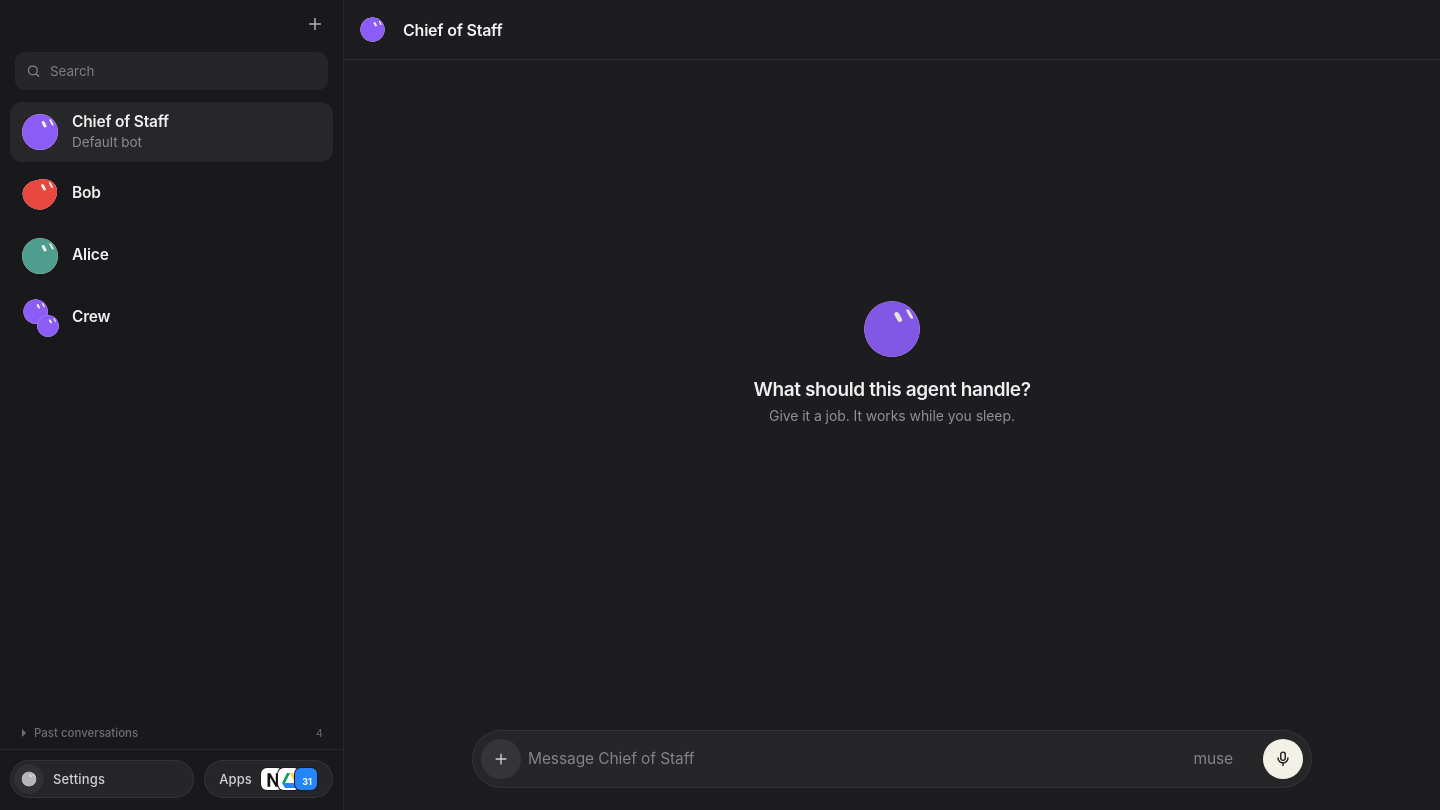
it: a round in a group › says when a member cannot answer
Click the button "Crew".
click(91, 316)  # box x1=10 y1=288 x2=333 y2=348
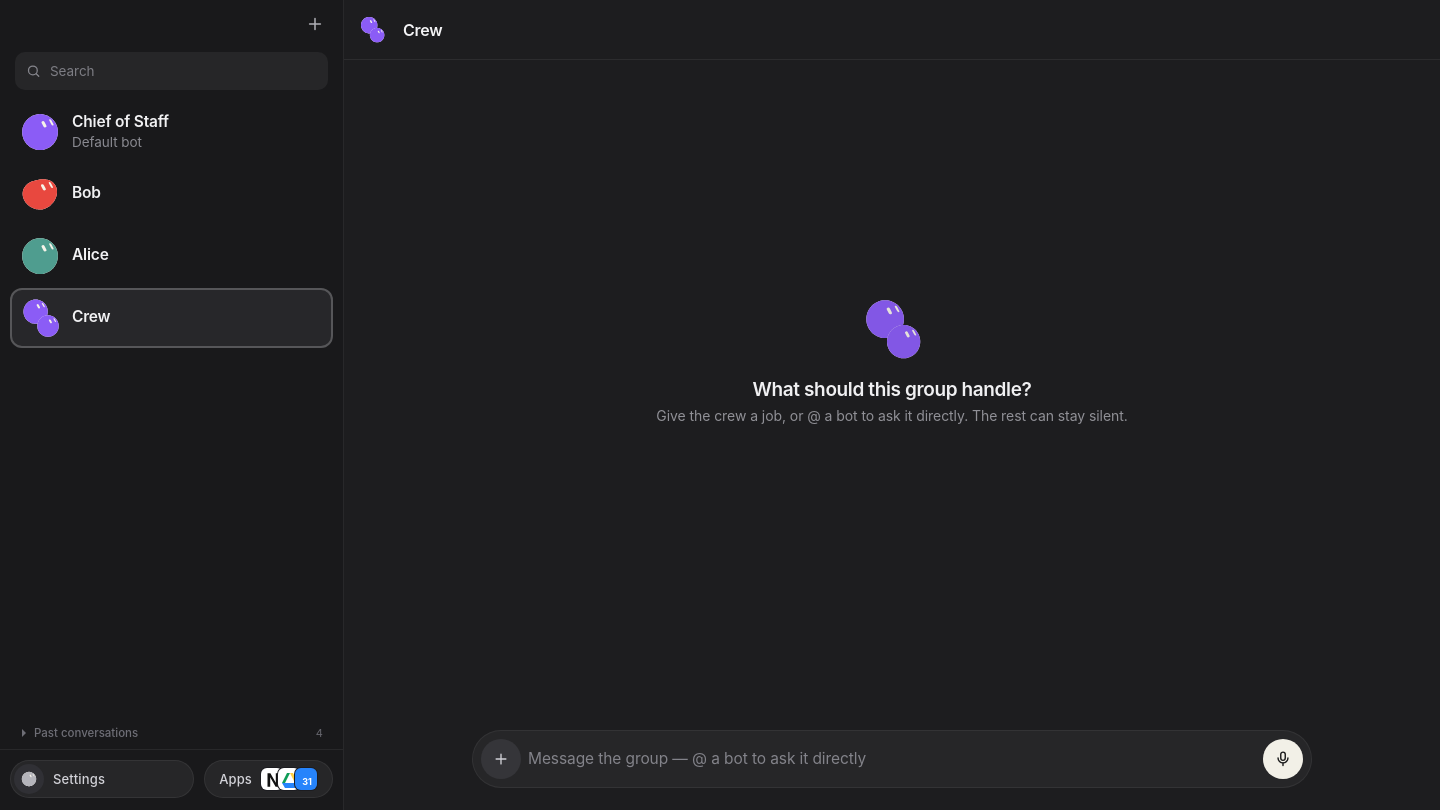
Type "Hello" into the text box labelled "Message the group — @ a bot to ask it directly".
click(892, 759); type("Hello")  # box x1=525 y1=739 x2=1259 y2=779
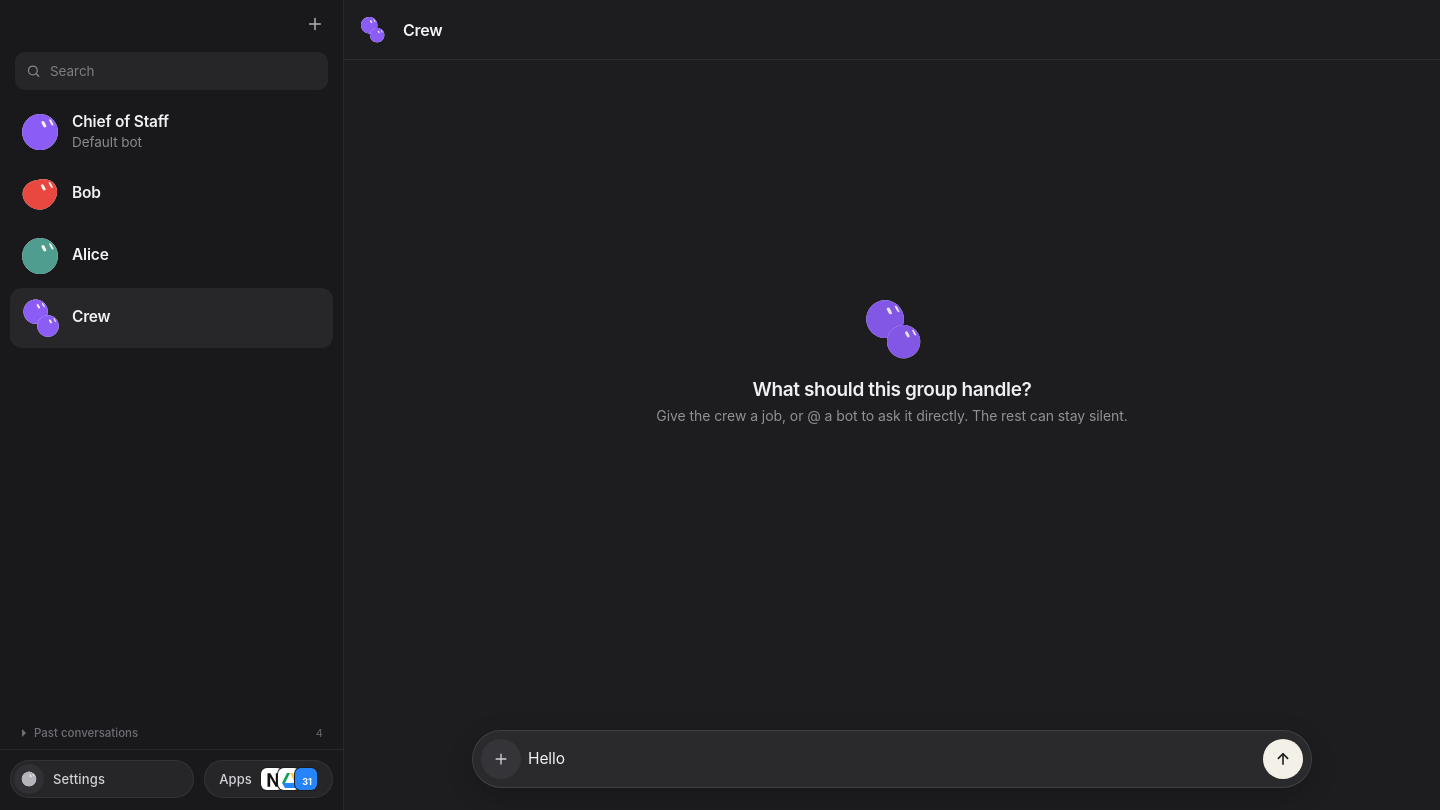
Press Enter
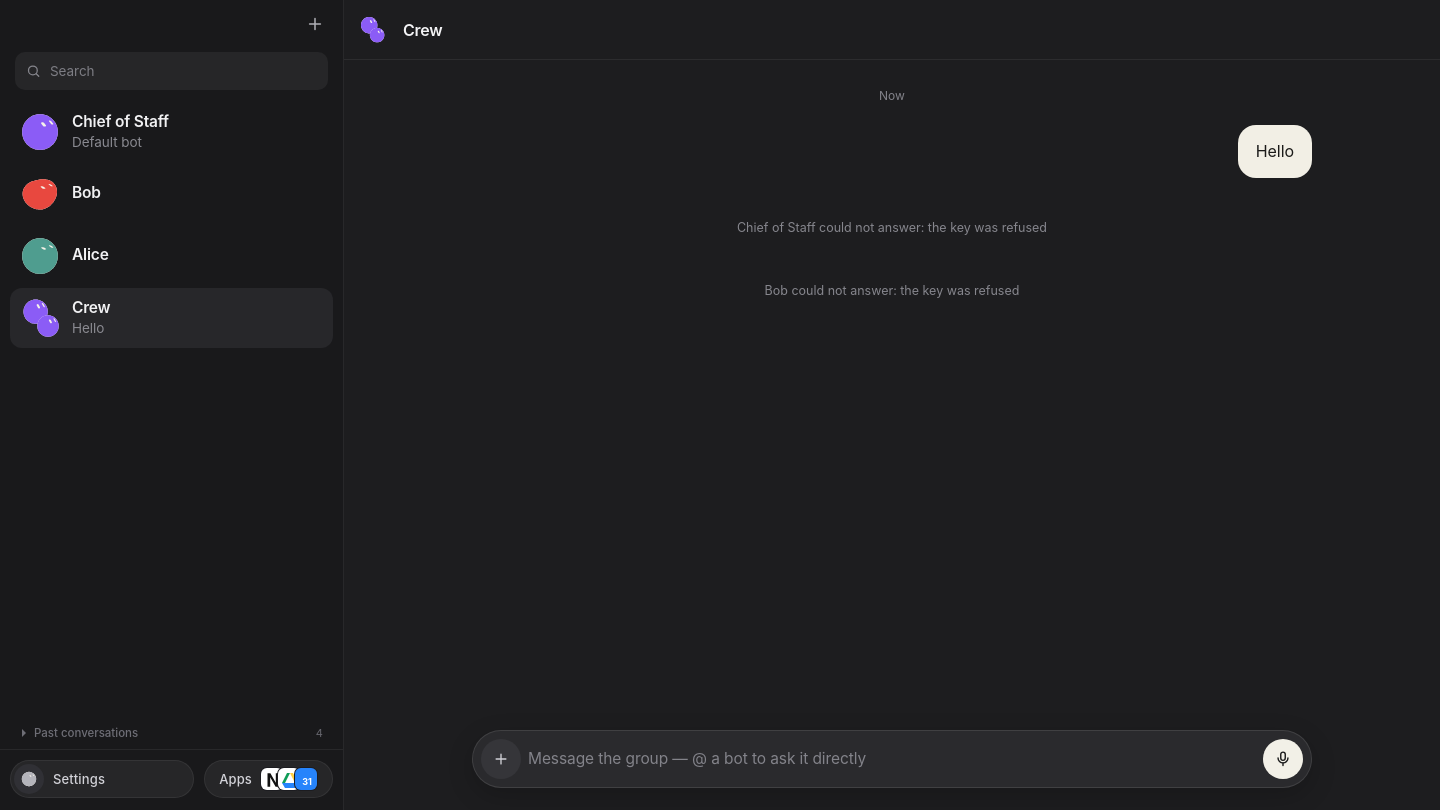
Result: the text "Chief of Staff could not answer: the key was refused" is shown 2 times at x1=737 y1=220 x2=1047 y2=235; x1=765 y1=283 x2=1019 y2=298
